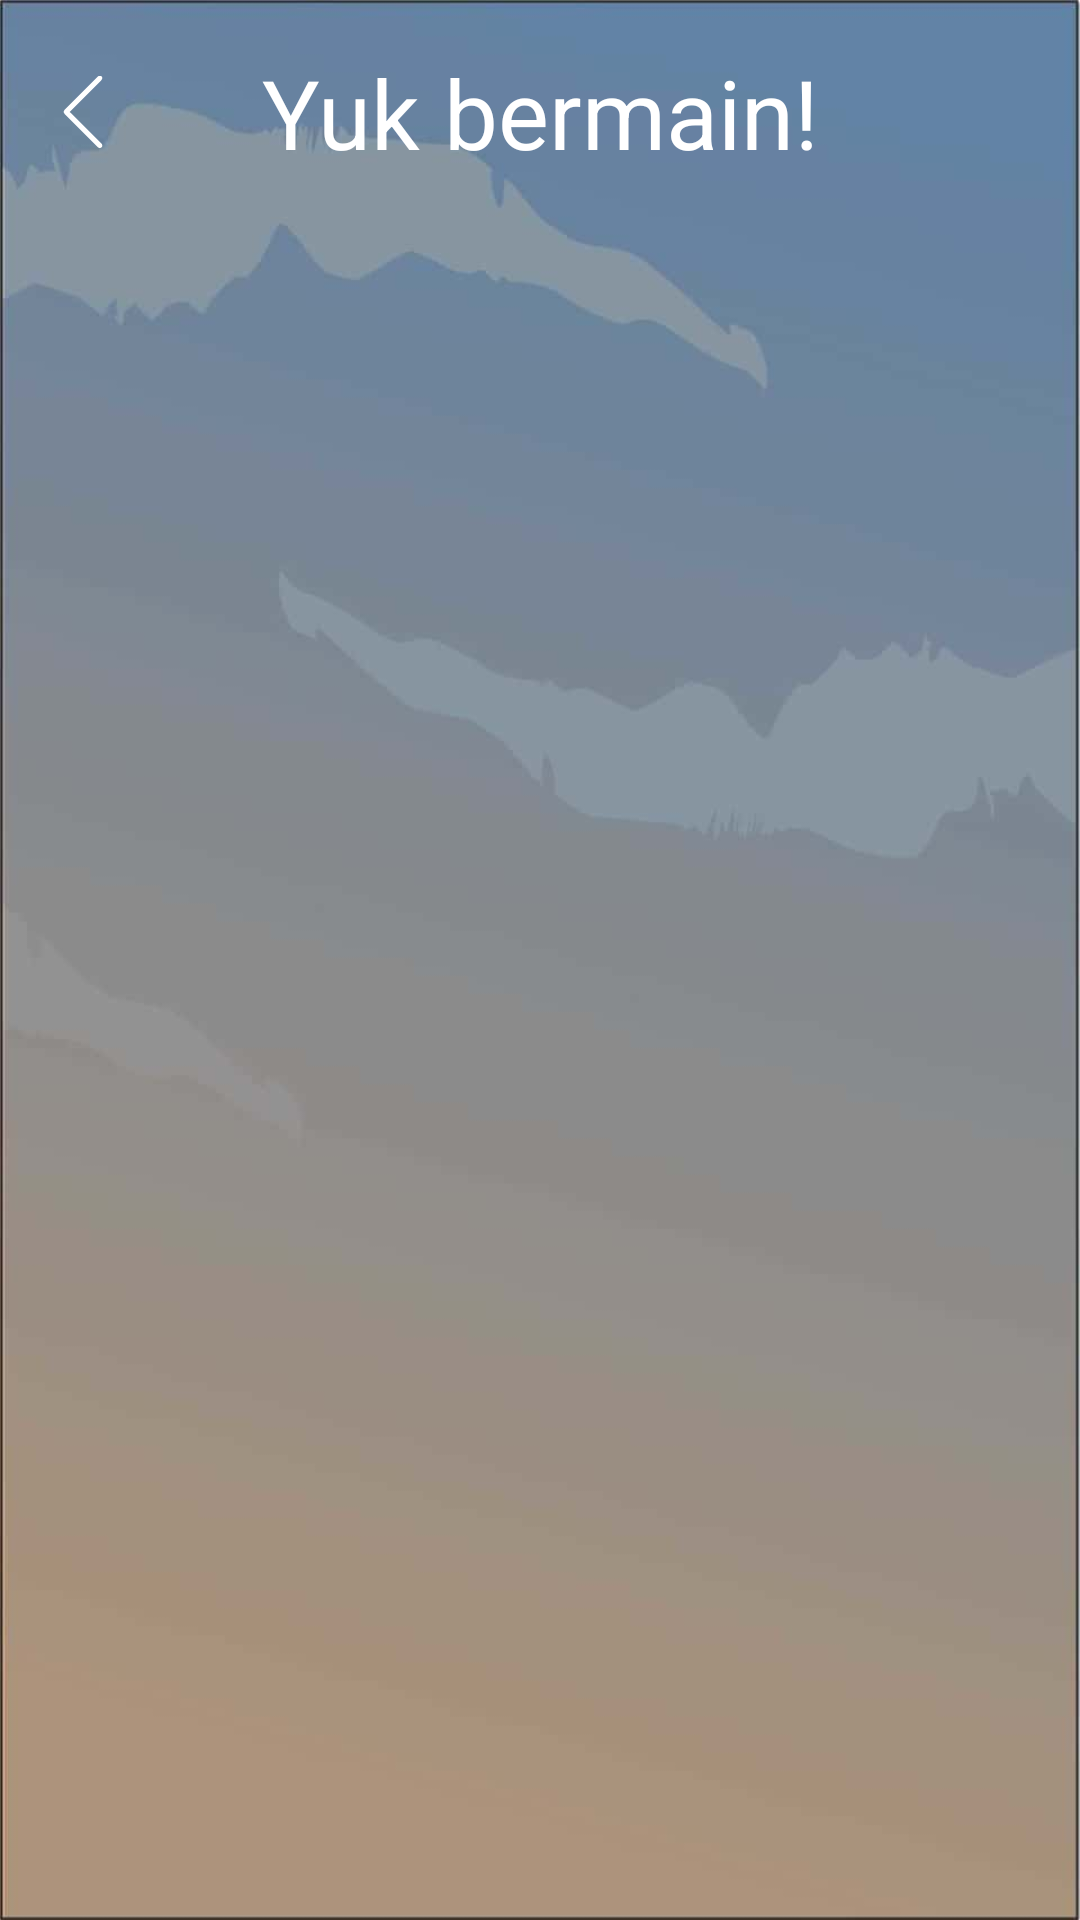

Screen size 1080 × 1920. Icon name, then its center in pixels as point (x, y):
back: point (83, 112)
